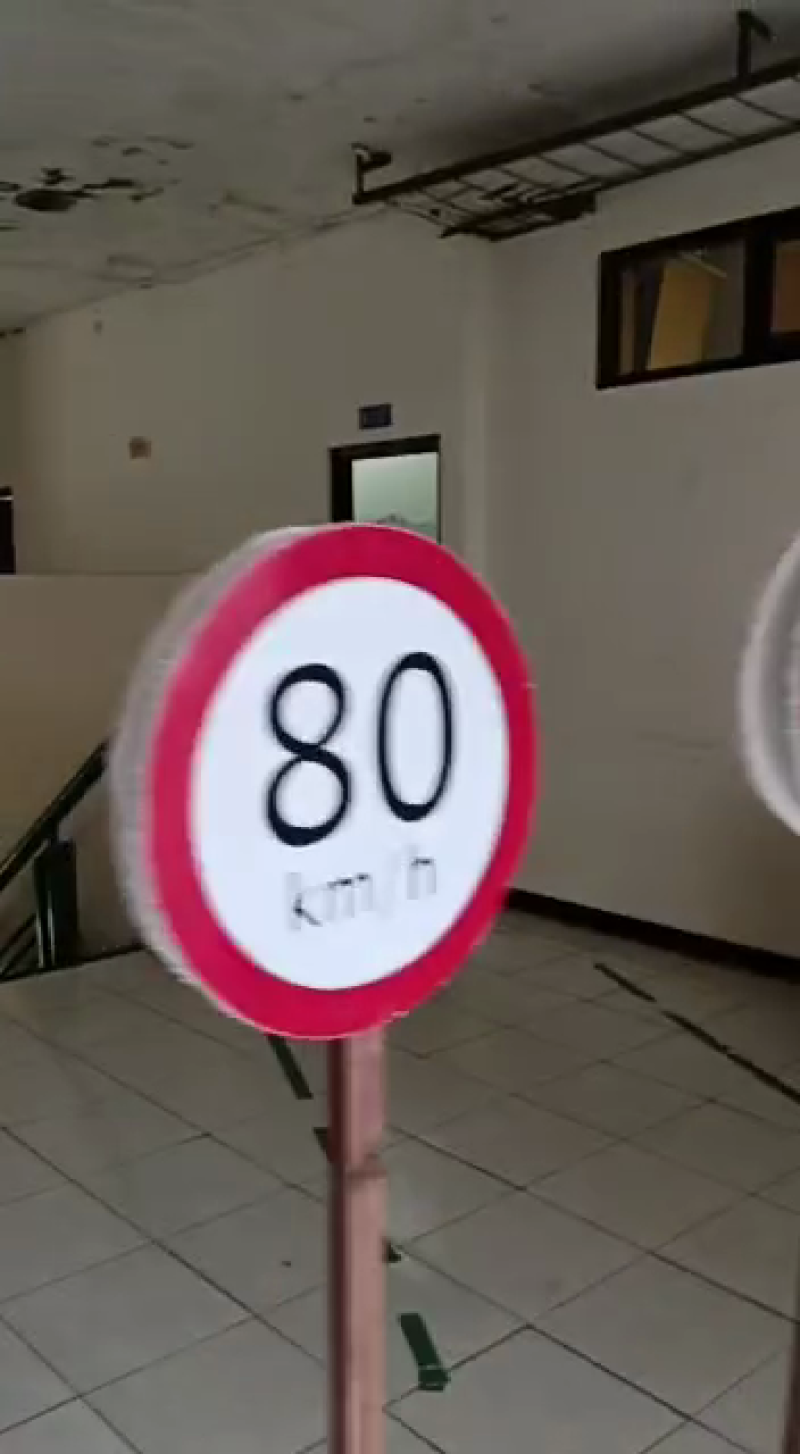batas maksimal 80kmperjam: (135, 509, 535, 1037)
